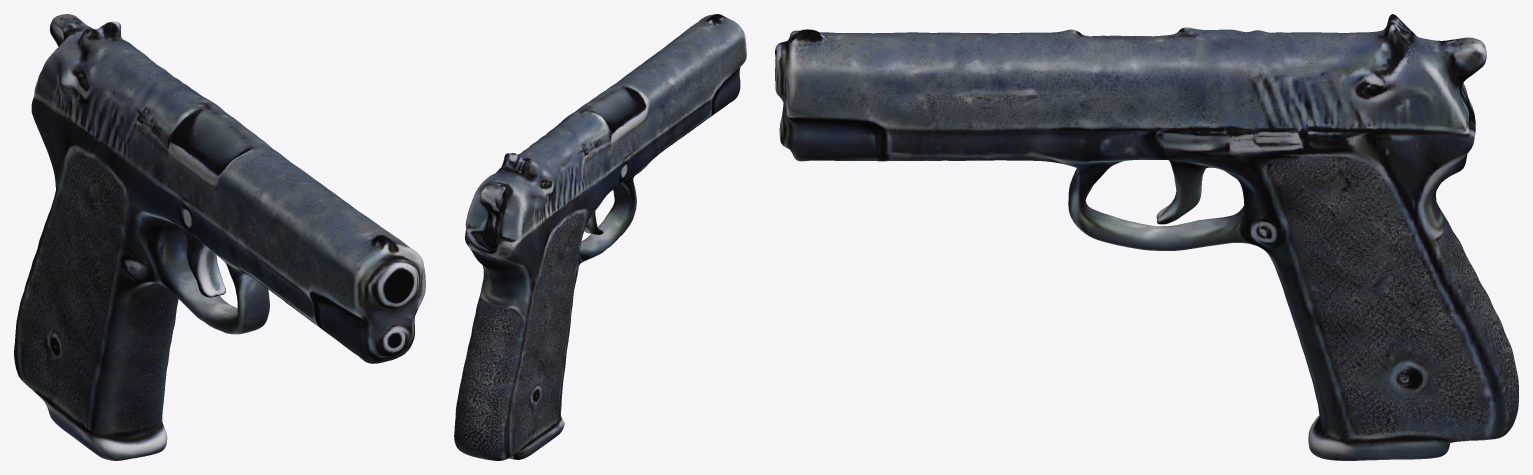
The model's file is colt_pistol_1911.glb.
3 renders of one model, left to right at view 1: azimuth 30°, elevation 25°; view 2: azimuth 150°, elevation 25°; view 3: azimuth 270°, elevation 25°, orthographic. The views are drawn at different scales.
Parts seen in each view (by area): view 1: high_poly; view 2: high_poly; view 3: high_poly.
Boxes of the visible parts, x1,y1,x2,y2 form: high_poly: (14, 14, 425, 460); high_poly: (454, 14, 746, 460); high_poly: (775, 14, 1518, 460).
Size of the model in its own units: 0.1336 by 0.6341 by 1.
1 material, 1 textured.
